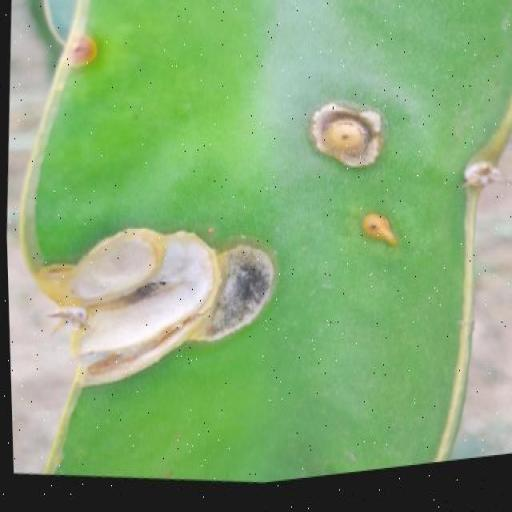stemcanker: (204, 223, 220, 237)
